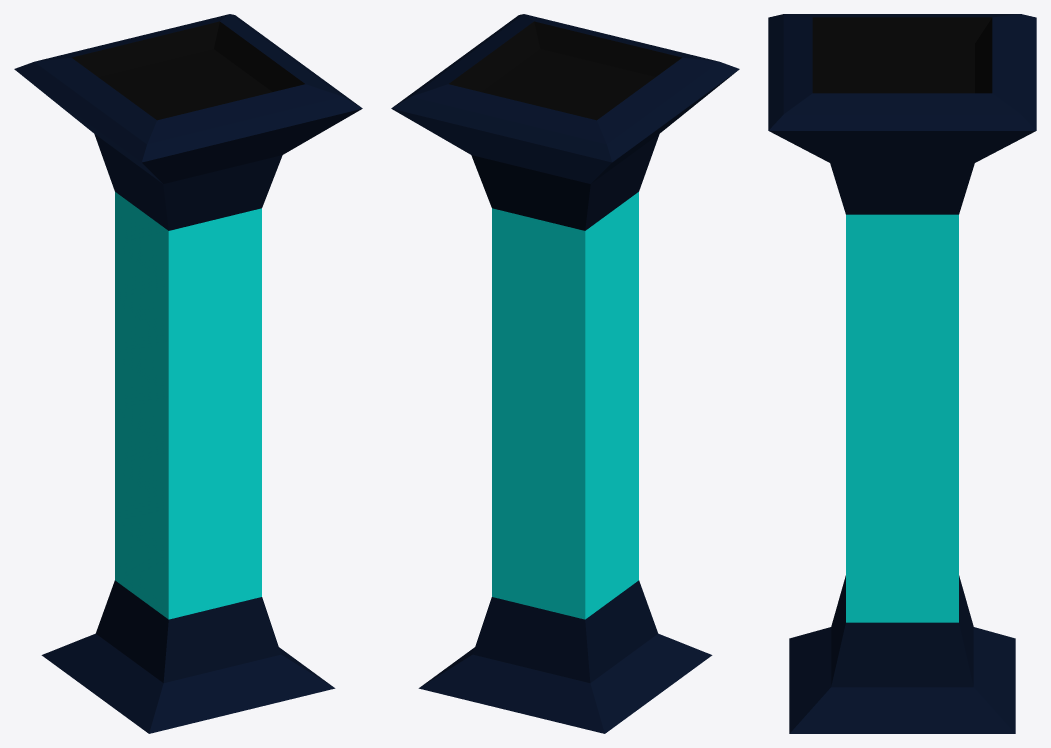
File: mesh_pillar.FBX
3 renders of one model, left to right at view 1: azimuth 30°, elevation 25°; view 2: azimuth 150°, elevation 25°; view 3: azimuth 270°, elevation 25°, orthographic. The views are drawn at different scales.
Visible parts, largest first — view 1: Box005; view 2: Box005; view 3: Box005.
Part boxes in pixels (x1,y1,x2,y2): Box005: [14, 14, 362, 733]; Box005: [391, 14, 739, 733]; Box005: [768, 14, 1036, 733].
Bounding box in the file's own units: 41.69 × 108 × 41.69.
